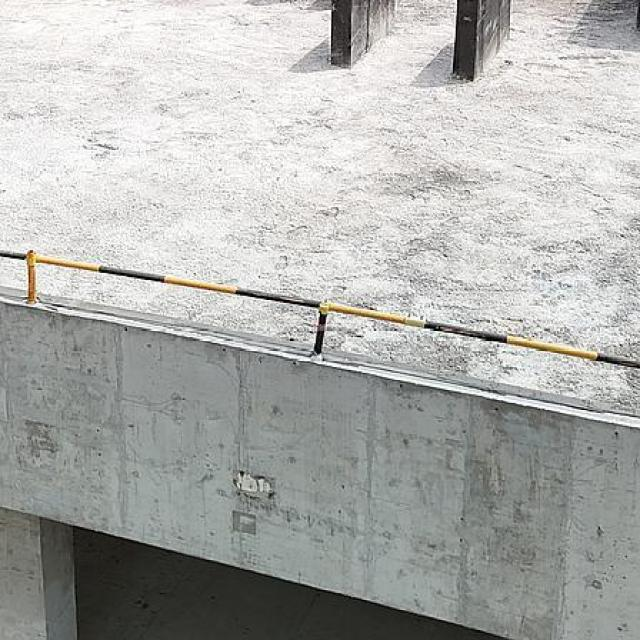Guardrail: (0, 250, 640, 369)
